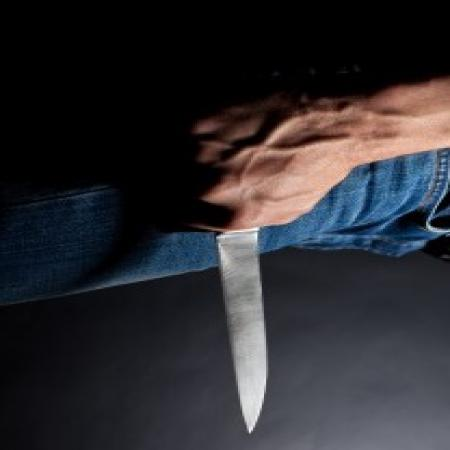long weapon: (184, 113, 282, 441)
